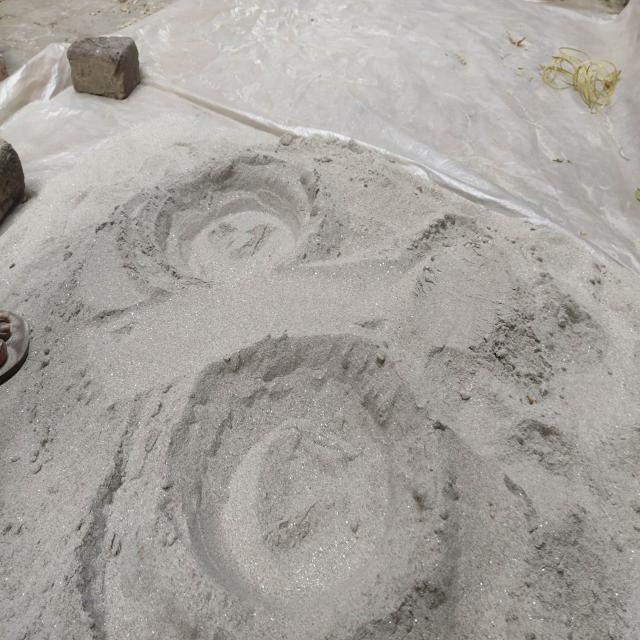C20: (182, 342, 423, 614), (154, 161, 306, 279)
